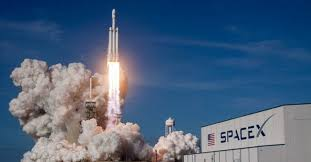ten_lua: (103, 7, 123, 91)
